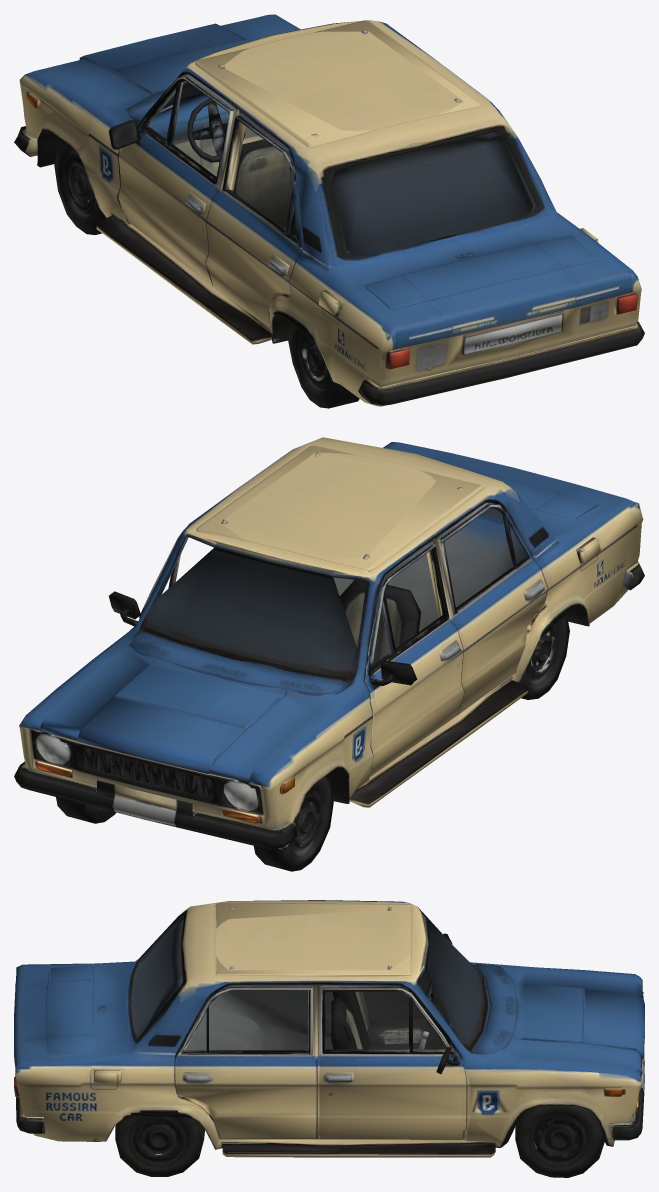
Rendered from kopeyka.glb.
3 views of the same model, one above another, from view 1: azimuth 30°, elevation 25°; view 2: azimuth 150°, elevation 25°; view 3: azimuth 270°, elevation 25° (orthographic). The views are drawn at different scales.
Parts seen in each view (by area): view 1: tripo_node_cf87b2d5-afb3-4ec8-8a9a-e2dc3540aac0; view 2: tripo_node_cf87b2d5-afb3-4ec8-8a9a-e2dc3540aac0; view 3: tripo_node_cf87b2d5-afb3-4ec8-8a9a-e2dc3540aac0.
Part boxes in pixels (box(x1,y1,x2,y2)): tripo_node_cf87b2d5-afb3-4ec8-8a9a-e2dc3540aac0: box(14, 14, 644, 408); tripo_node_cf87b2d5-afb3-4ec8-8a9a-e2dc3540aac0: box(14, 437, 644, 871); tripo_node_cf87b2d5-afb3-4ec8-8a9a-e2dc3540aac0: box(14, 900, 644, 1177).
Size of the model in its own units: 0.4707 by 0.3379 by 0.998.
1 material, 1 textured.
